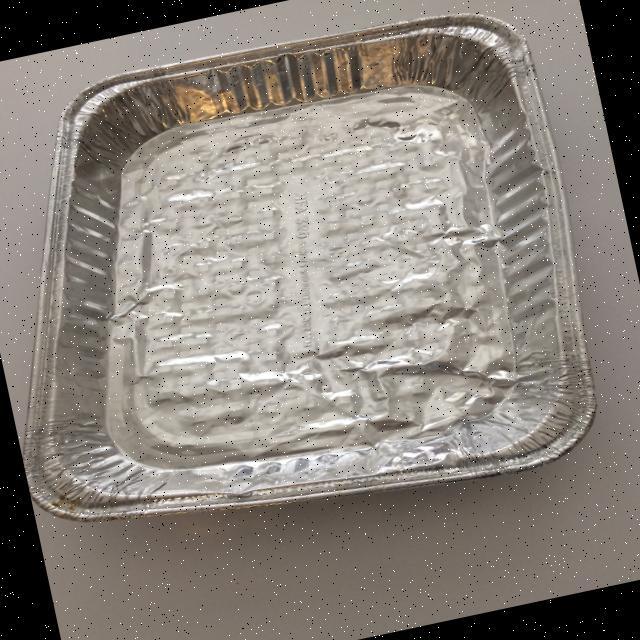metal: (0, 0, 621, 571)
